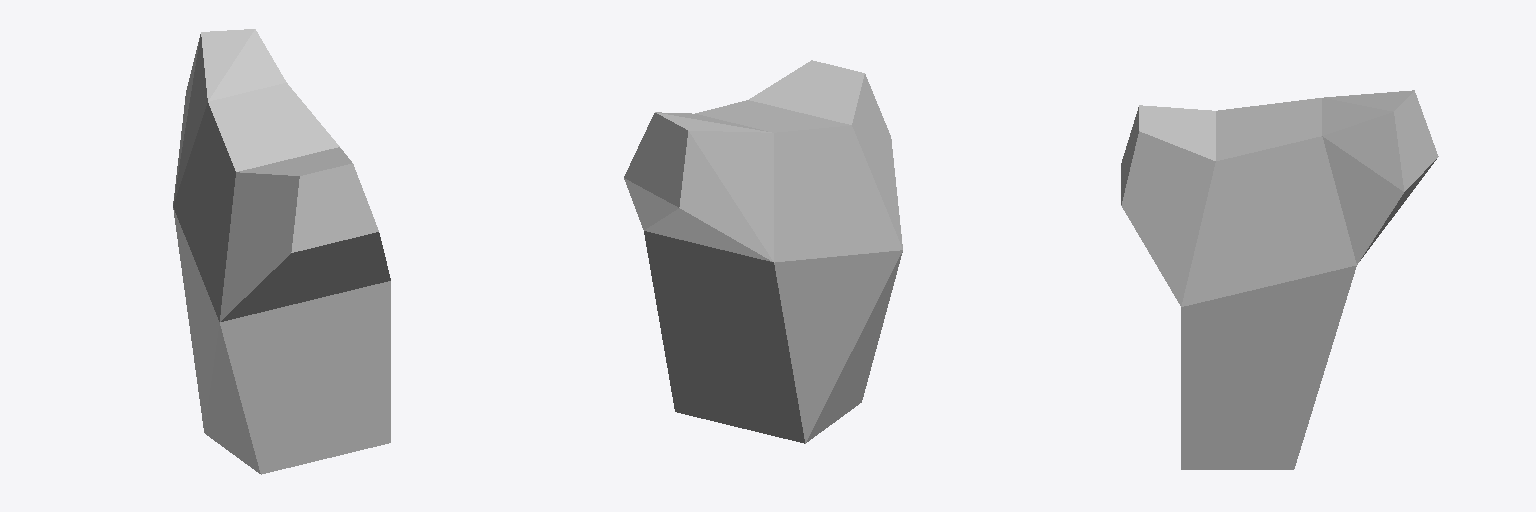
File: Pillar2.obj
3 renders of one model, left to right at view 1: azimuth 30°, elevation 25°; view 2: azimuth 150°, elevation 25°; view 3: azimuth 270°, elevation 25°, orthographic.
Parts seen in each view (by area): view 1: Pillar2; view 2: Pillar2; view 3: Pillar2.
Part boxes in pixels (x1,y1,x2,y2): Pillar2: (173,29,390,474); Pillar2: (624,60,902,443); Pillar2: (1121,90,1438,469).
Bounding box in the file's own units: 6.68 × 12.77 × 10.7.